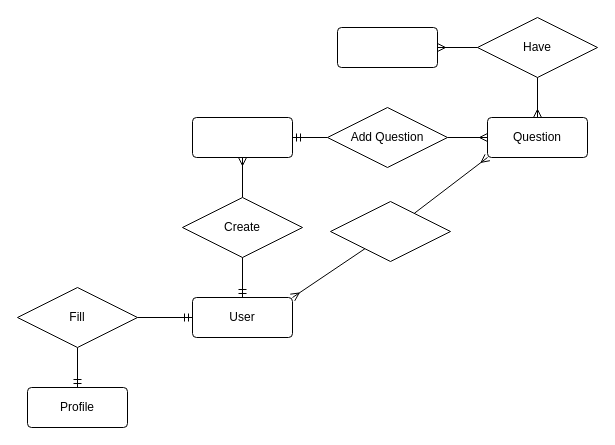
Image size: 615x445. Some labels were removed from this diagram. Here are the shapes that lost their labels. From the top down, the centre of each, then its label:
At (387,47): "DefaultAnswer".
At (242,137): "Questionnaire".
At (390,231): "Answer".
